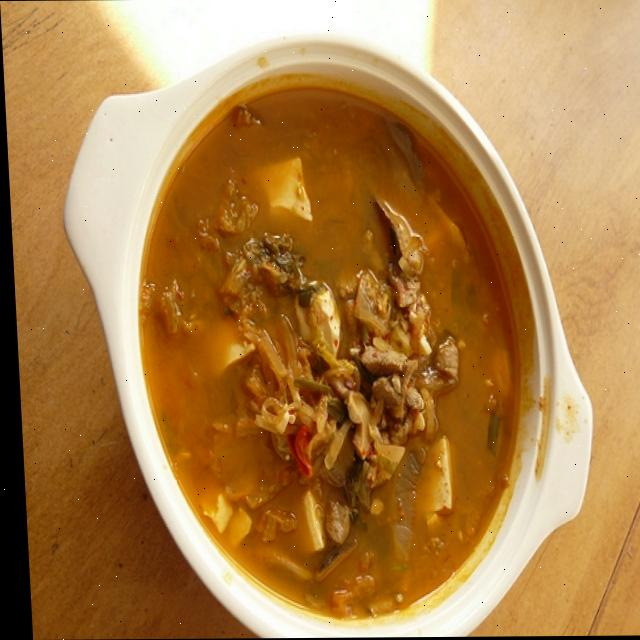汤锅炖物: (48, 35, 615, 640)
